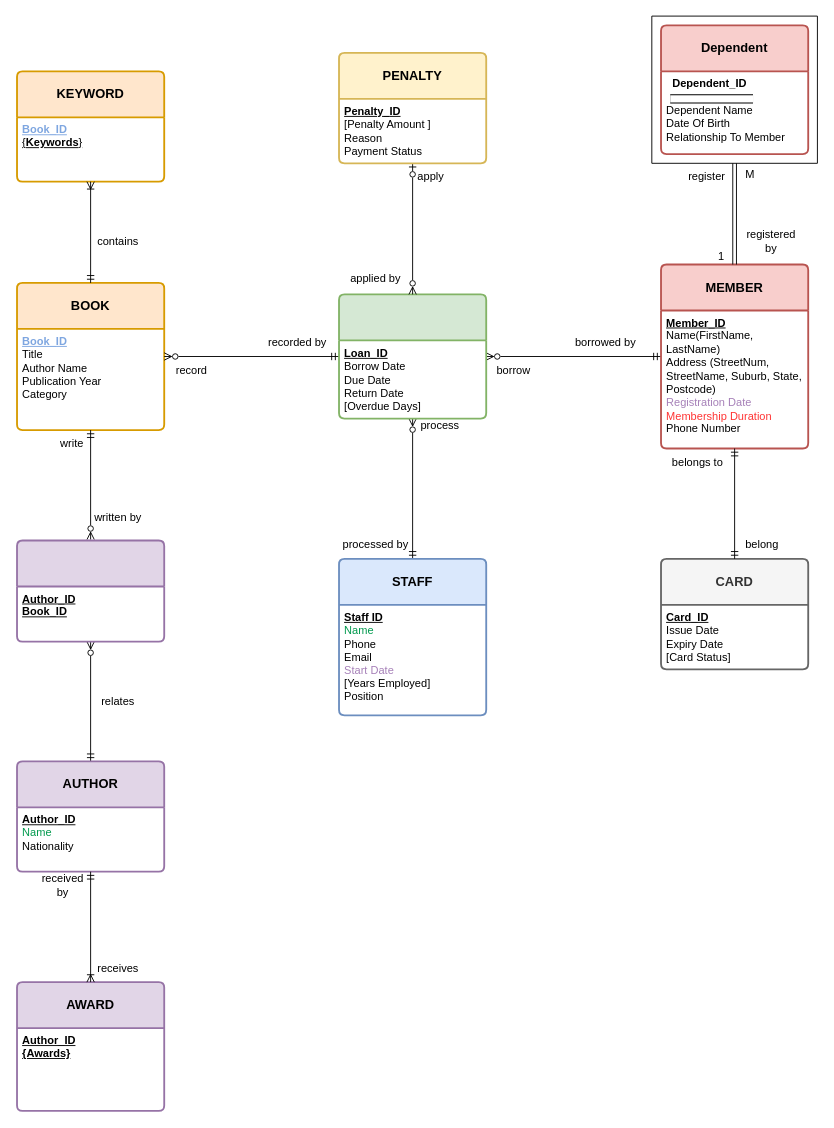
Some shapes in this 834 by 1128 pixel diagram are drawn without their labels. The box of each missing label's shape, as (x1, y1, x2, y2) in pixels:
AUTHOR's BOOK: (16, 539, 165, 642)
BORROW RECORD: (338, 293, 487, 419)
